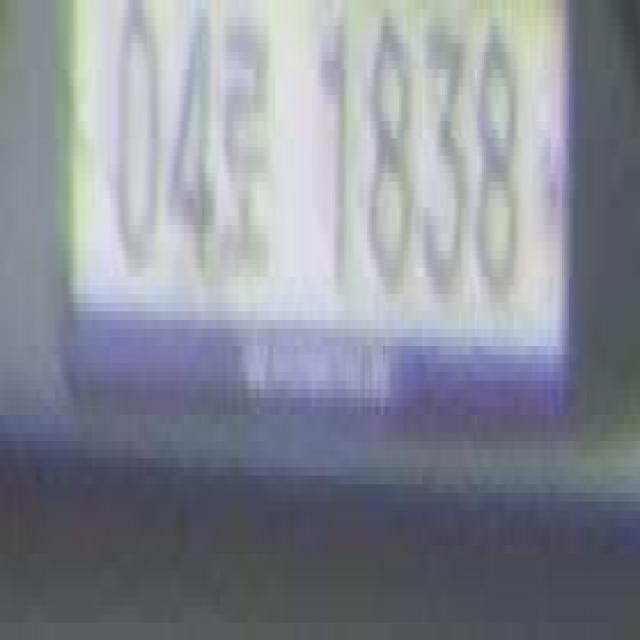illegal_plate: (42, 2, 578, 414)
